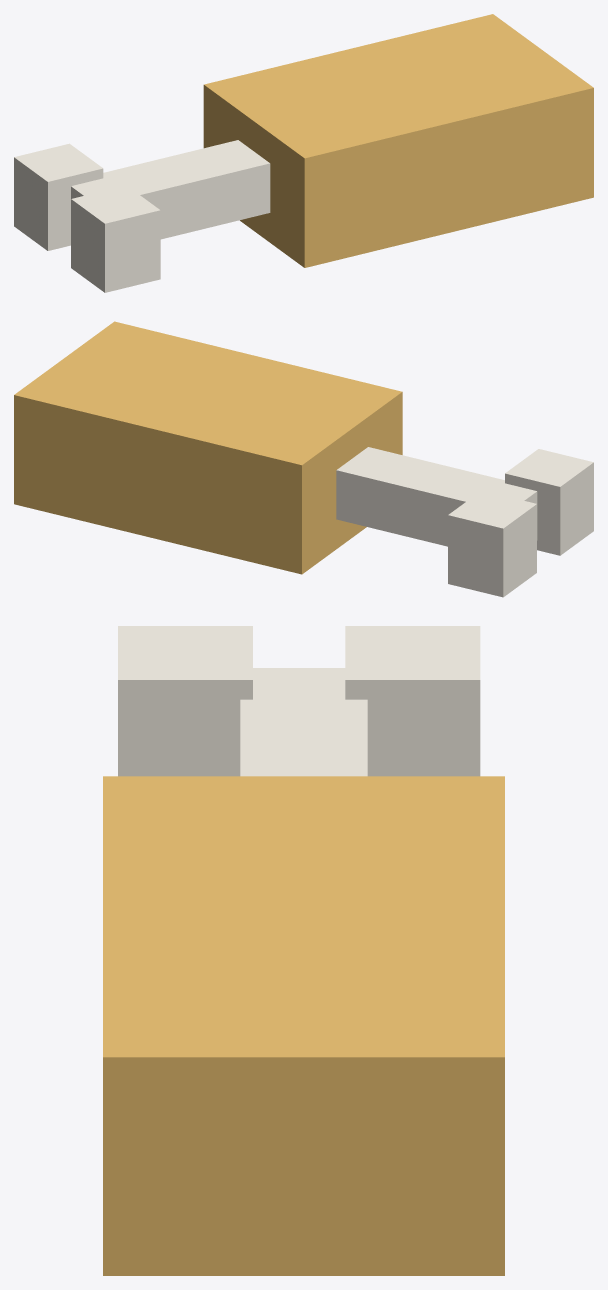
File: chicken leg.fbx
3 renders of one model, top to bottom at view 1: azimuth 30°, elevation 25°; view 2: azimuth 150°, elevation 25°; view 3: azimuth 270°, elevation 25°, orthographic. The views are drawn at different scales.
Parts seen in each view (by area): view 1: Null_25; view 2: Null_25; view 3: Null_25.
Part boxes in pixels (x1=…): Null_25: x1=14, y1=14, x2=593, y2=292; Null_25: x1=14, y1=321, x2=593, y2=597; Null_25: x1=103, y1=626, x2=504, y2=1275.
Bounding box in the file's own units: 246 × 53.12 × 88.52.
